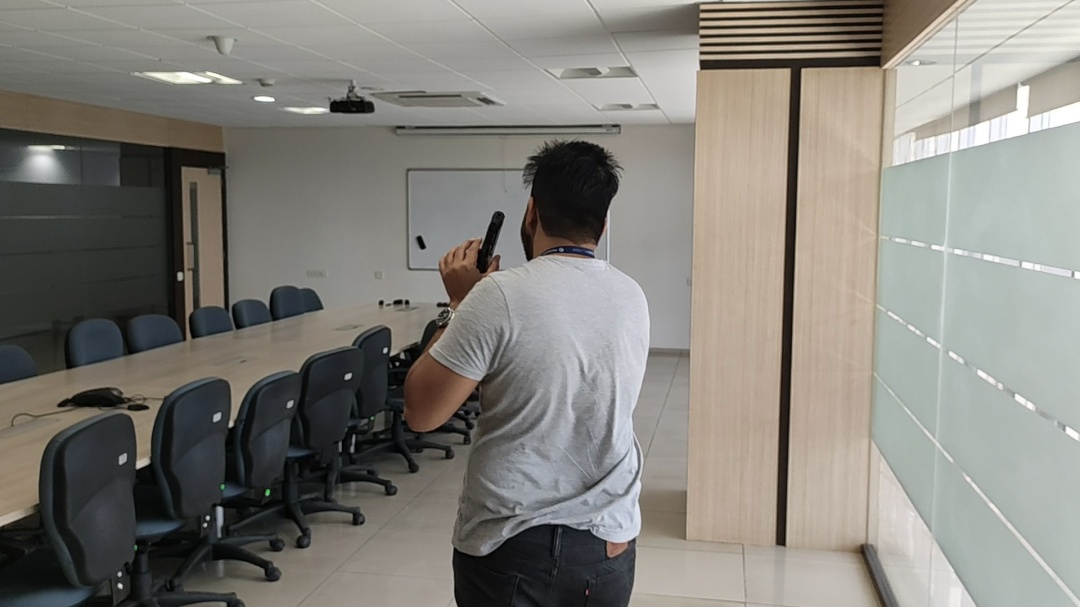gun: (477, 211, 505, 269)
